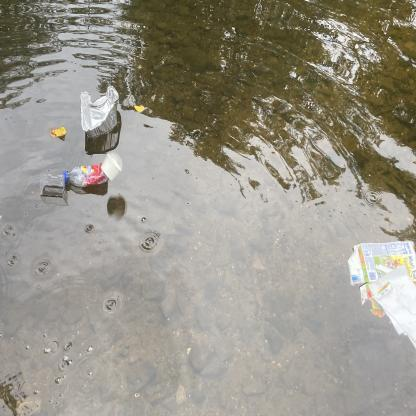trash: (348, 237, 416, 318), (366, 262, 416, 352), (76, 80, 122, 146), (63, 162, 110, 188), (38, 171, 68, 200), (100, 153, 121, 182), (106, 148, 126, 172)
